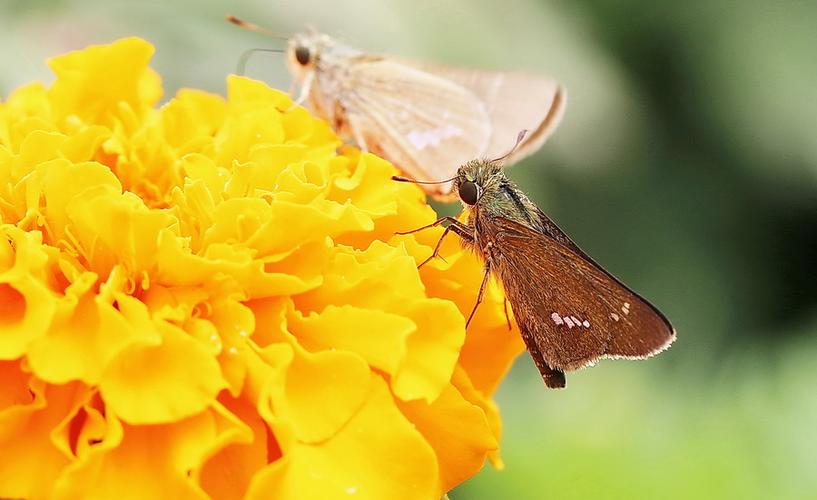Hesperiidae: (388, 129, 678, 393), (222, 9, 569, 173)
